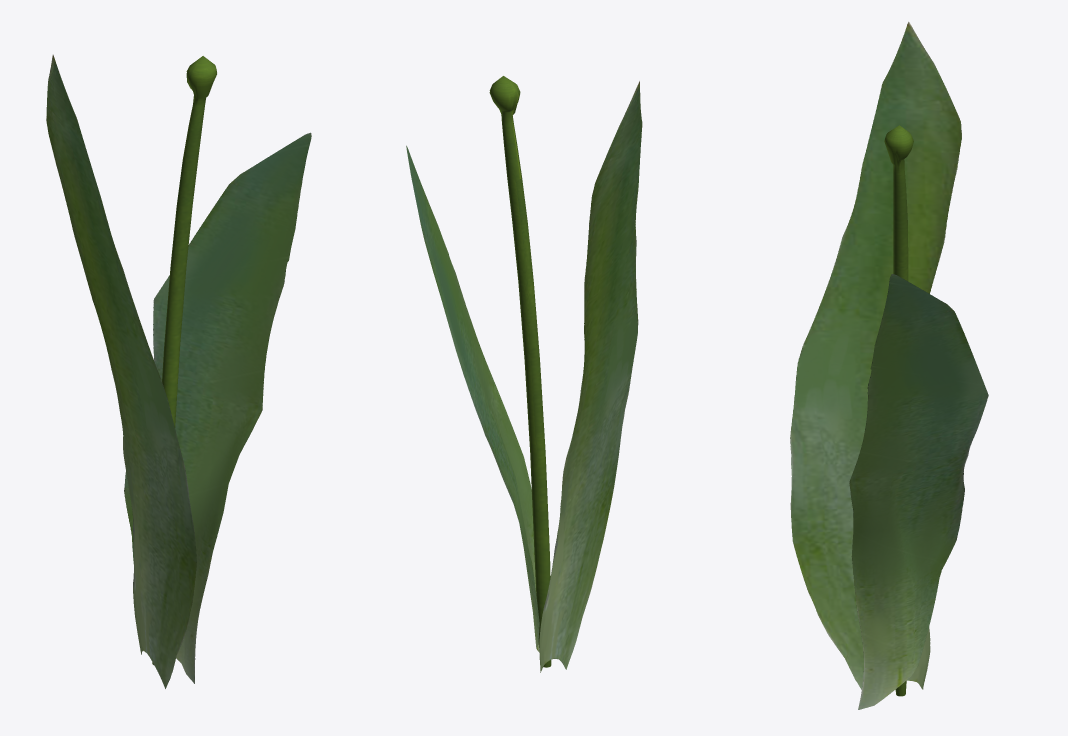
Rendered from Tulip_young.fbx.
3 views of the same model, side by side, from view 1: azimuth 30°, elevation 25°; view 2: azimuth 150°, elevation 25°; view 3: azimuth 270°, elevation 25° (orthographic). The views are drawn at different scales.
Parts seen in each view (by area): view 1: pasted__pasted__pCube1, pasted__pCube1, pasted__pCylinder1; view 2: pasted__pCube1, pasted__pasted__pCube1, pasted__pCylinder1; view 3: pasted__pCube1, pasted__pasted__pCube1, pasted__pCylinder1.
Boxes of the visible parts, x1=… form: pasted__pasted__pCube1: x1=124, y1=132, x2=311, y2=683; pasted__pCube1: x1=46, y1=54, x2=196, y2=688; pasted__pCylinder1: x1=152, y1=56, x2=216, y2=664; pasted__pCube1: x1=539, y1=81, x2=642, y2=672; pasted__pasted__pCube1: x1=406, y1=145, x2=539, y2=652; pasted__pCylinder1: x1=489, y1=76, x2=551, y2=667; pasted__pCube1: x1=790, y1=21, x2=961, y2=689; pasted__pasted__pCube1: x1=849, y1=274, x2=988, y2=709; pasted__pCylinder1: x1=884, y1=125, x2=913, y2=696.
Bounding box in the file's own units: 8.62 × 19.91 × 8.53.
